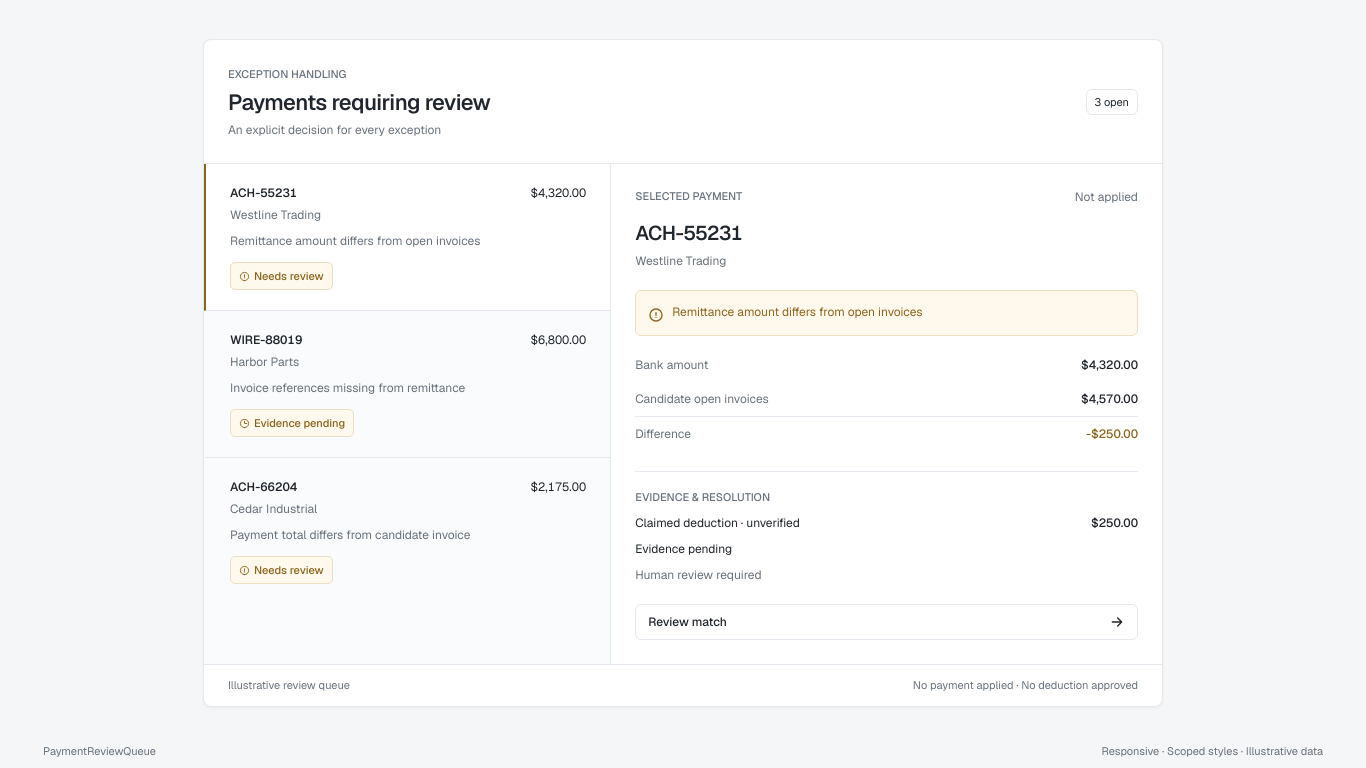
Test: isolated asset preview › uses the selected exception reason in the read-only review dialog
The width and height of the screenshot is (1366, 768).
(page scrolled)
Step 1. Click the button with aria-label "Inspect WIRE-88019" → point(407, 385), box [204,311,610,458]
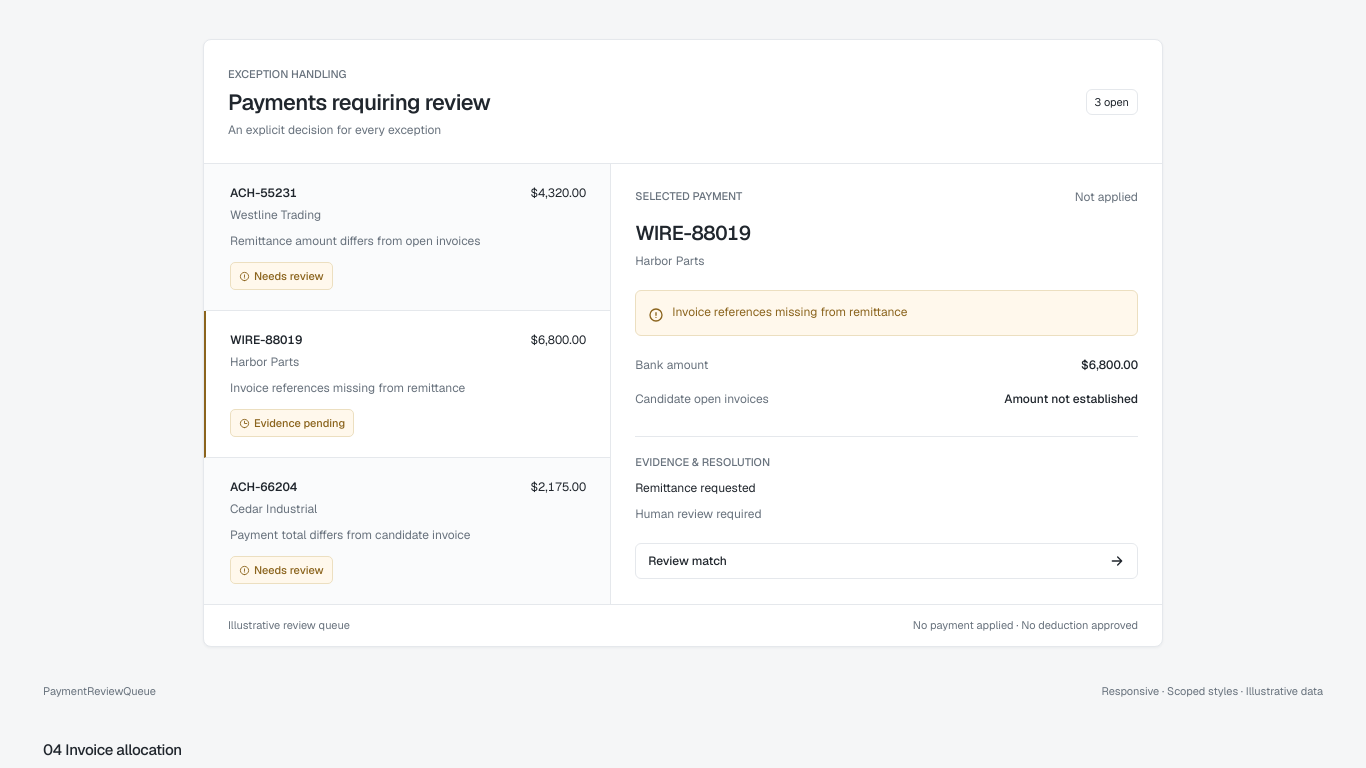
Step 2. Click the button "Review match" → point(688, 561), box [635,543,1138,579]
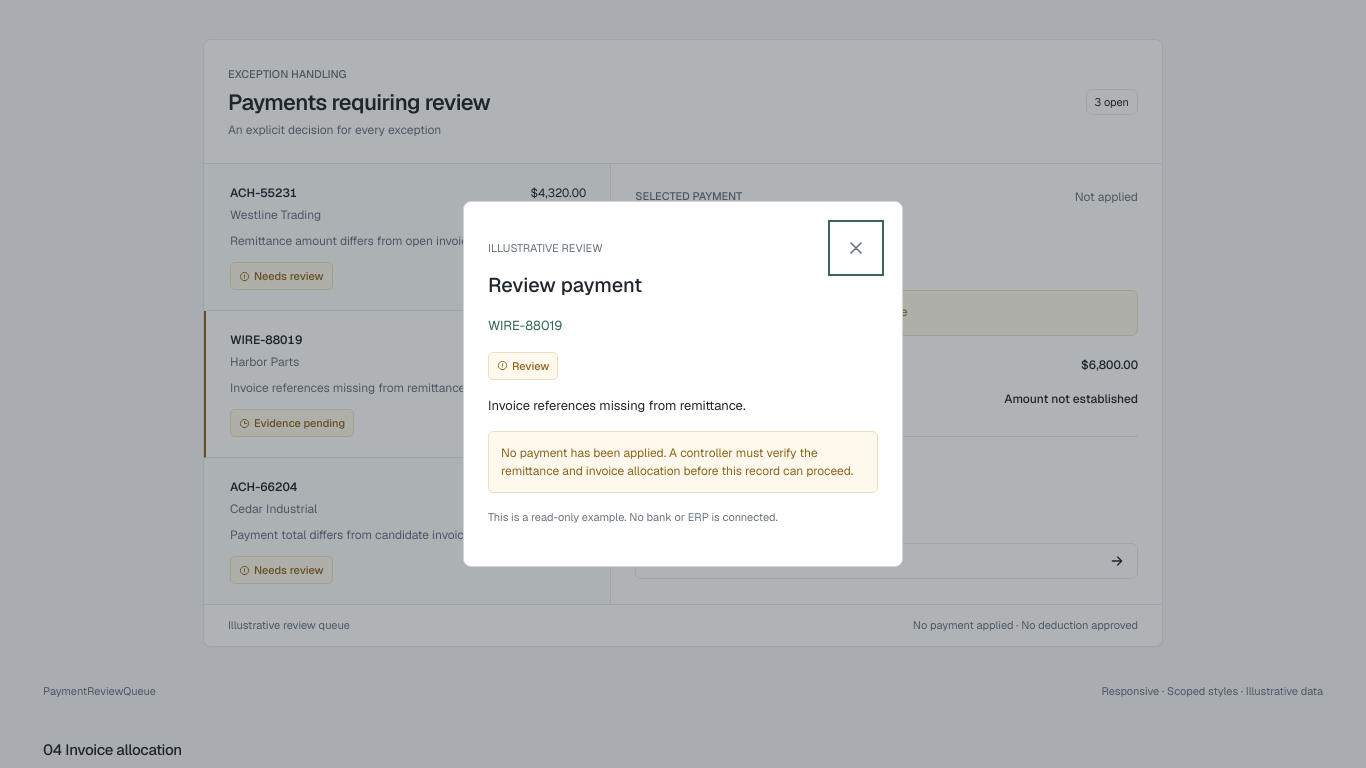
Check: the text "Invoice references missing from remittance." is shown, box [488,397,746,414]
